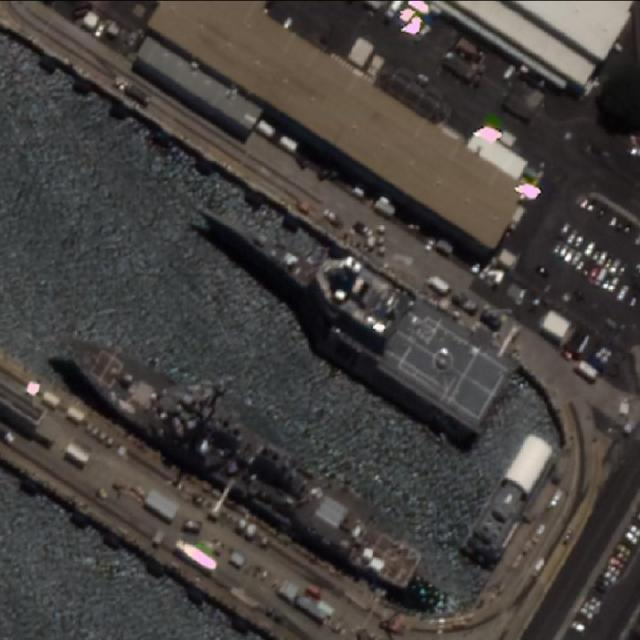Destroyer: (51, 321, 429, 593)
Frigate: (169, 172, 523, 434)
